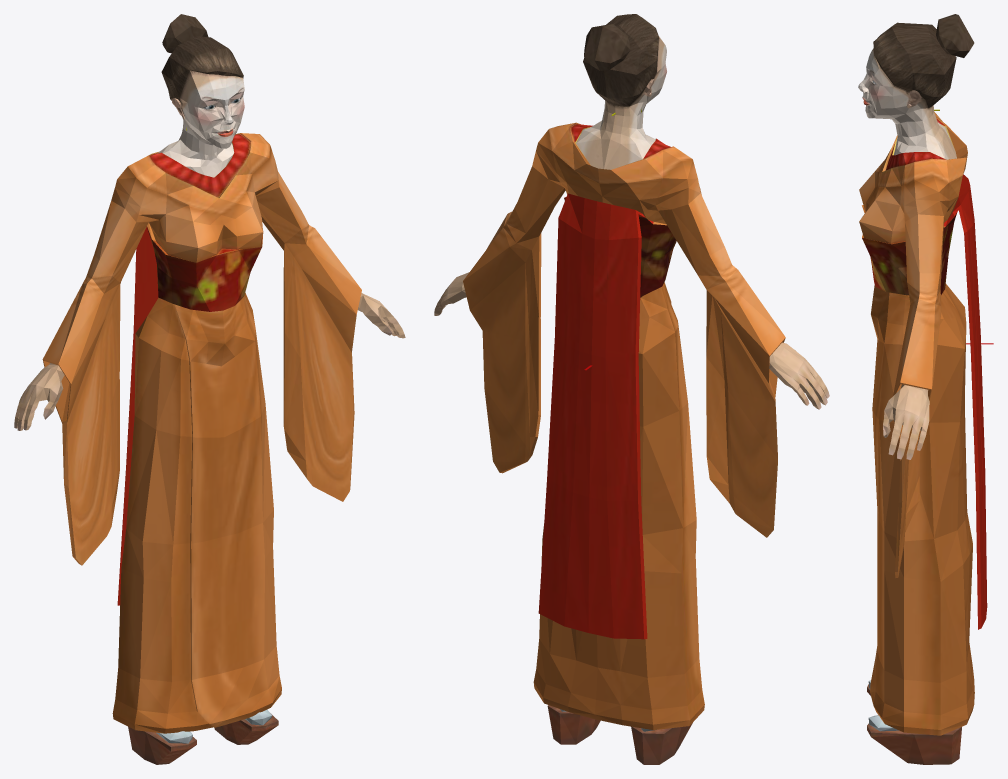
File: geisha.obj
3 renders of one model, left to right at view 1: azimuth 30°, elevation 25°; view 2: azimuth 150°, elevation 25°; view 3: azimuth 270°, elevation 25°, orthographic.
Parts seen in each view (by area): view 1: Plane; view 2: Plane; view 3: Plane.
Part boxes in pixels (x1,y1,x2,y2): Plane: (14,14,405,764); Plane: (434,14,829,764); Plane: (858,14,987,764).
Size of what is drawn, in the model's own units: 31.53 by 56.54 by 9.58.
